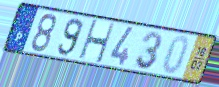0: (160, 34, 192, 76)
3: (135, 30, 164, 71)
4: (108, 24, 135, 68)
8: (31, 12, 57, 54)
9: (56, 17, 83, 57)
H: (77, 19, 116, 65)
